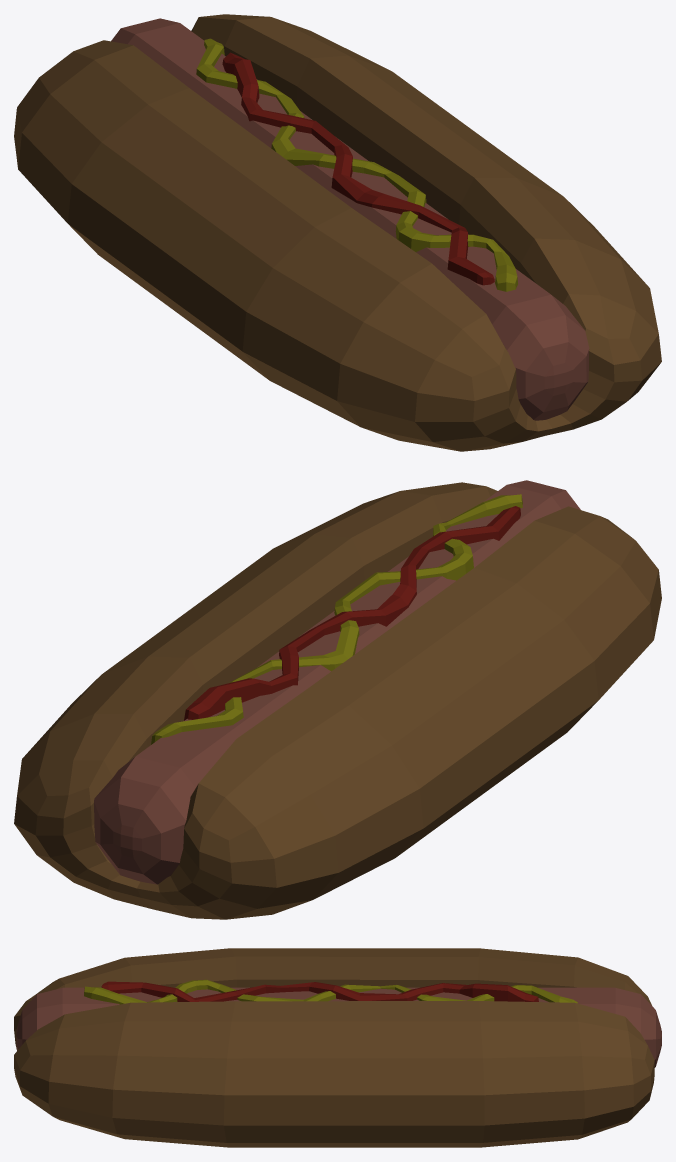
The model's file is Hotdog.obj.
3 views of the same model, one above another, from view 1: azimuth 30°, elevation 25°; view 2: azimuth 150°, elevation 25°; view 3: azimuth 270°, elevation 25° (orthographic). The views are drawn at different scales.
Parts seen in each view (by area): view 1: Hotdog_Cube.004; view 2: Hotdog_Cube.004; view 3: Hotdog_Cube.004.
Boxes of the visible parts, x1,y1,x2,y2 form: Hotdog_Cube.004: [14, 14, 661, 451]; Hotdog_Cube.004: [14, 480, 661, 919]; Hotdog_Cube.004: [14, 948, 661, 1147].
Bounding box in the file's own units: 0.7853 × 0.4094 × 1.66.
